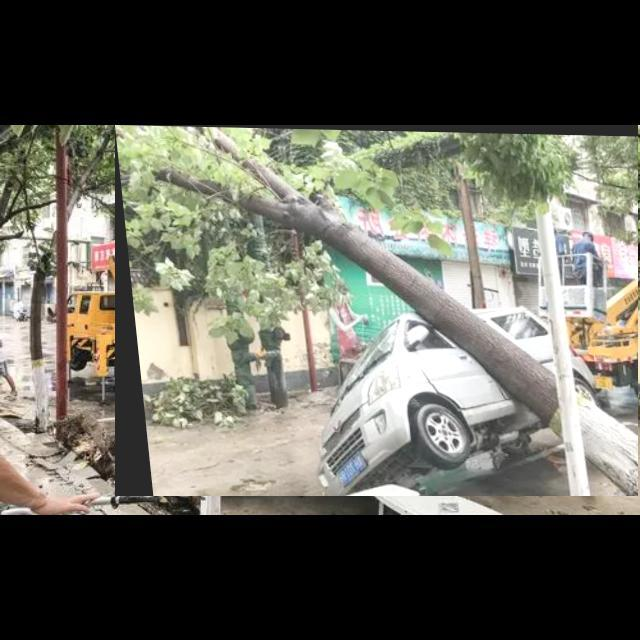fallen_tree: (115, 125, 639, 497)
